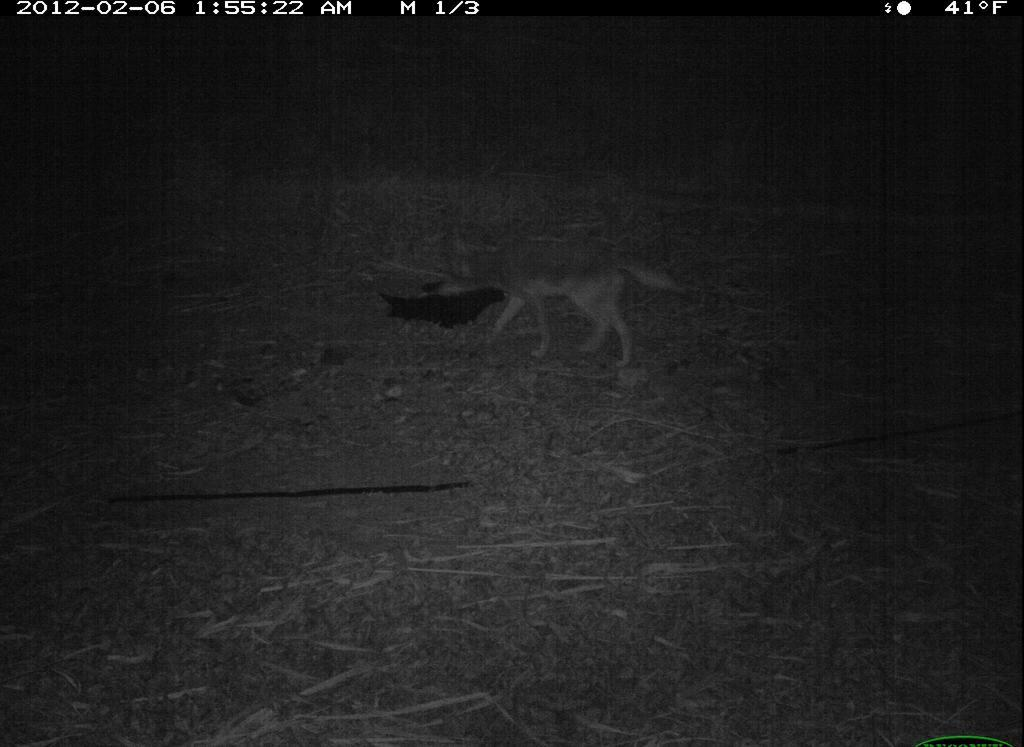coyote: (474, 230, 697, 376)
